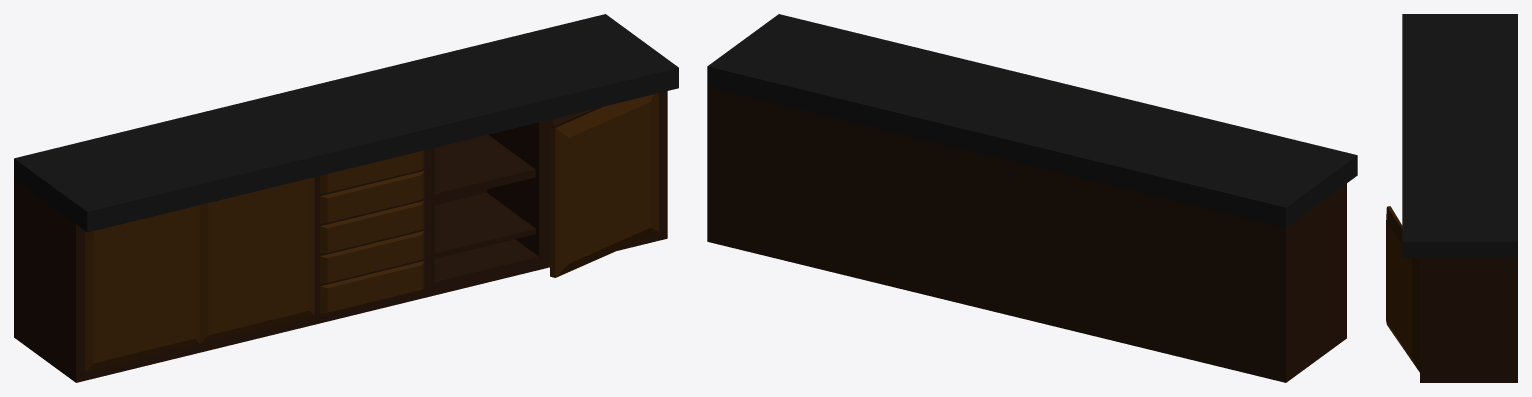
Rendered from Kitchen cabinets .fbx.
3 views of the same model, side by side, from view 1: azimuth 30°, elevation 25°; view 2: azimuth 150°, elevation 25°; view 3: azimuth 270°, elevation 25° (orthographic). The views are drawn at different scales.
Visible parts, largest first — view 1: Cube; view 2: Cube; view 3: Cube.
Part boxes in pixels (x1,y1,x2,y2): Cube: [14, 14, 678, 382]; Cube: [707, 14, 1357, 382]; Cube: [1386, 14, 1517, 382].
Size of the model in its own units: 1650 by 477 by 404.
